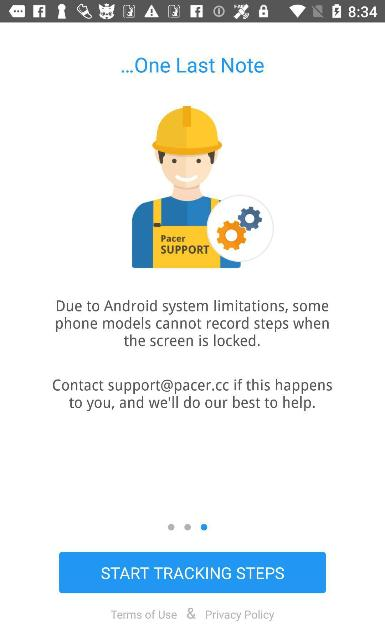Image: (132, 106, 274, 268)
PageIndicator: (168, 523, 208, 531)
Text: (56, 299, 328, 347), (52, 378, 332, 412), (101, 566, 284, 580), (120, 56, 264, 72), (110, 607, 274, 621)
TextButton: (58, 551, 326, 593)
UpperTaskBar: (0, 0, 384, 22)
